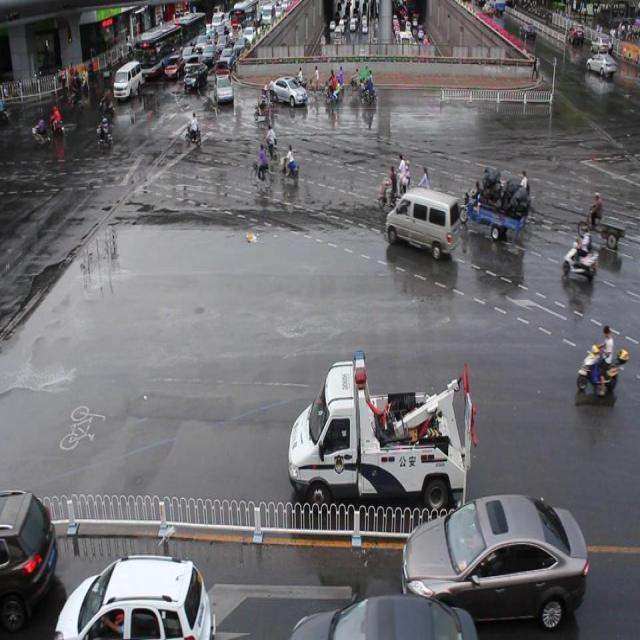bus: (287, 352, 473, 518)
car: (400, 494, 586, 625), (58, 550, 213, 640), (292, 591, 475, 640), (1, 487, 59, 628), (268, 76, 309, 108), (213, 74, 234, 106)
truck: (386, 187, 458, 260)
